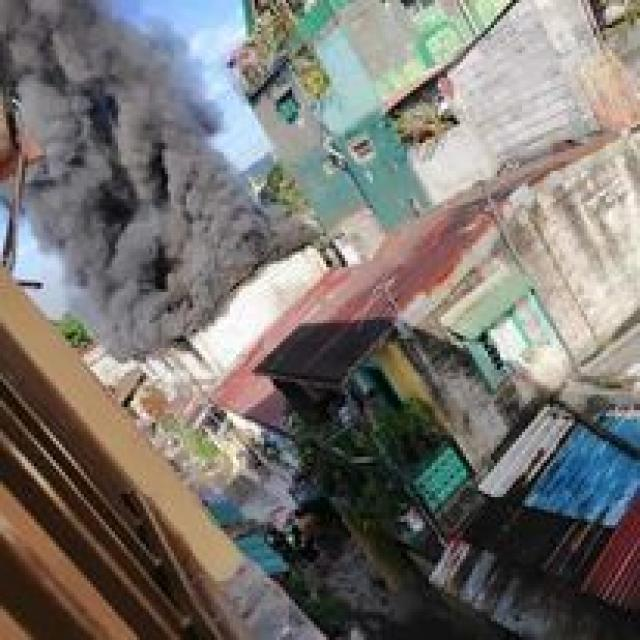Smoke: (10, 0, 253, 296)
